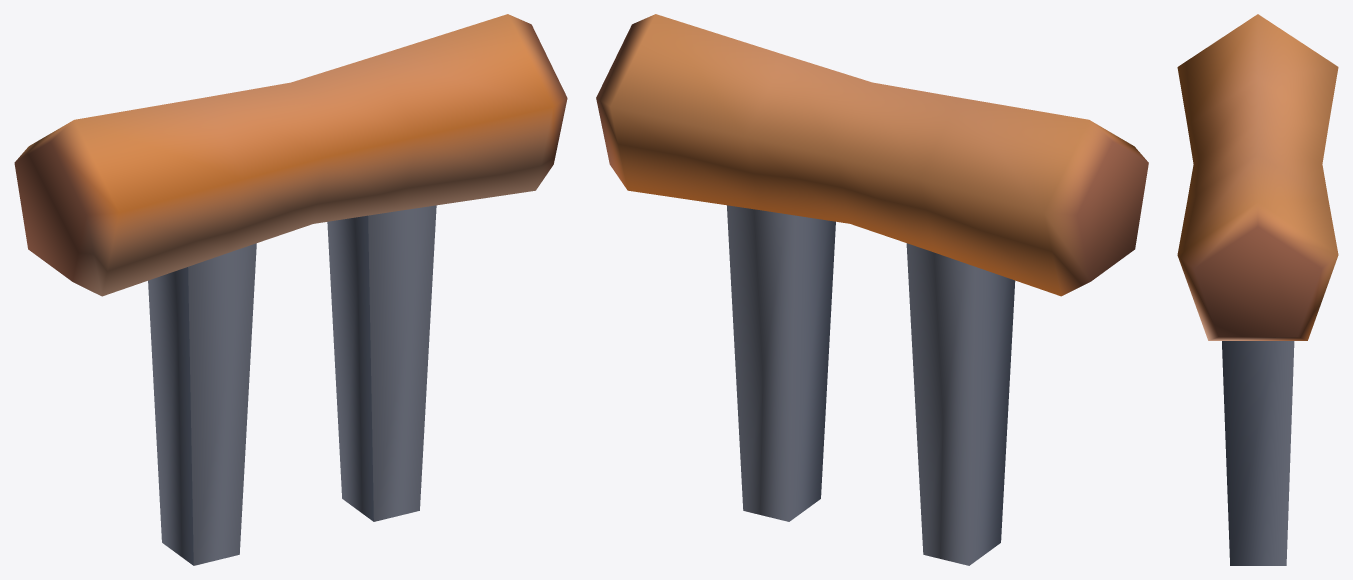
Rendered from PartySubSwitchHandle.glb.
3 views of the same model, side by side, from view 1: azimuth 30°, elevation 25°; view 2: azimuth 150°, elevation 25°; view 3: azimuth 270°, elevation 25° (orthographic). The views are drawn at different scales.
Parts seen in each view (by area): view 1: PartySubSwitchHandle; view 2: PartySubSwitchHandle; view 3: PartySubSwitchHandle.
Part boxes in pixels (x1,y1,x2,y2): PartySubSwitchHandle: [14, 14, 567, 565]; PartySubSwitchHandle: [596, 14, 1148, 565]; PartySubSwitchHandle: [1177, 14, 1338, 565].
Bounding box in the file's own units: 0.6351 × 0.5802 × 0.2072.
